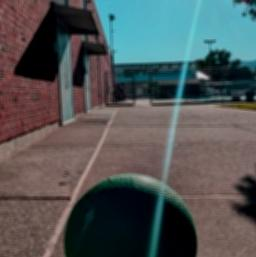algae: (61, 175, 195, 257)
